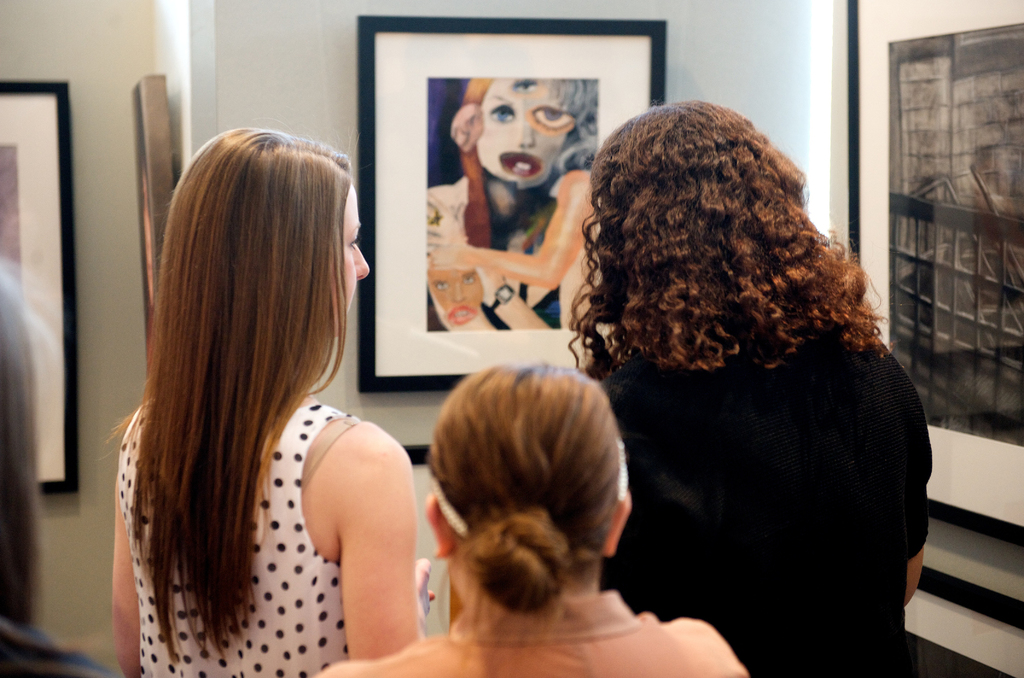face: (470, 72, 570, 183)
